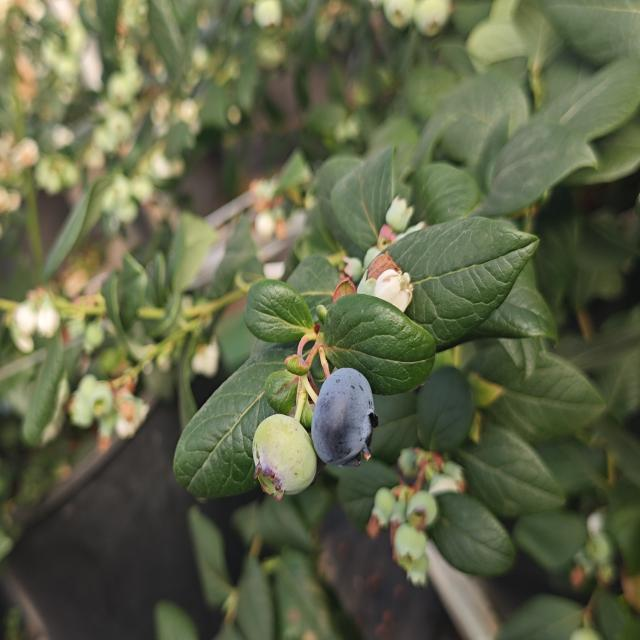ripe: (295, 359, 383, 469)
